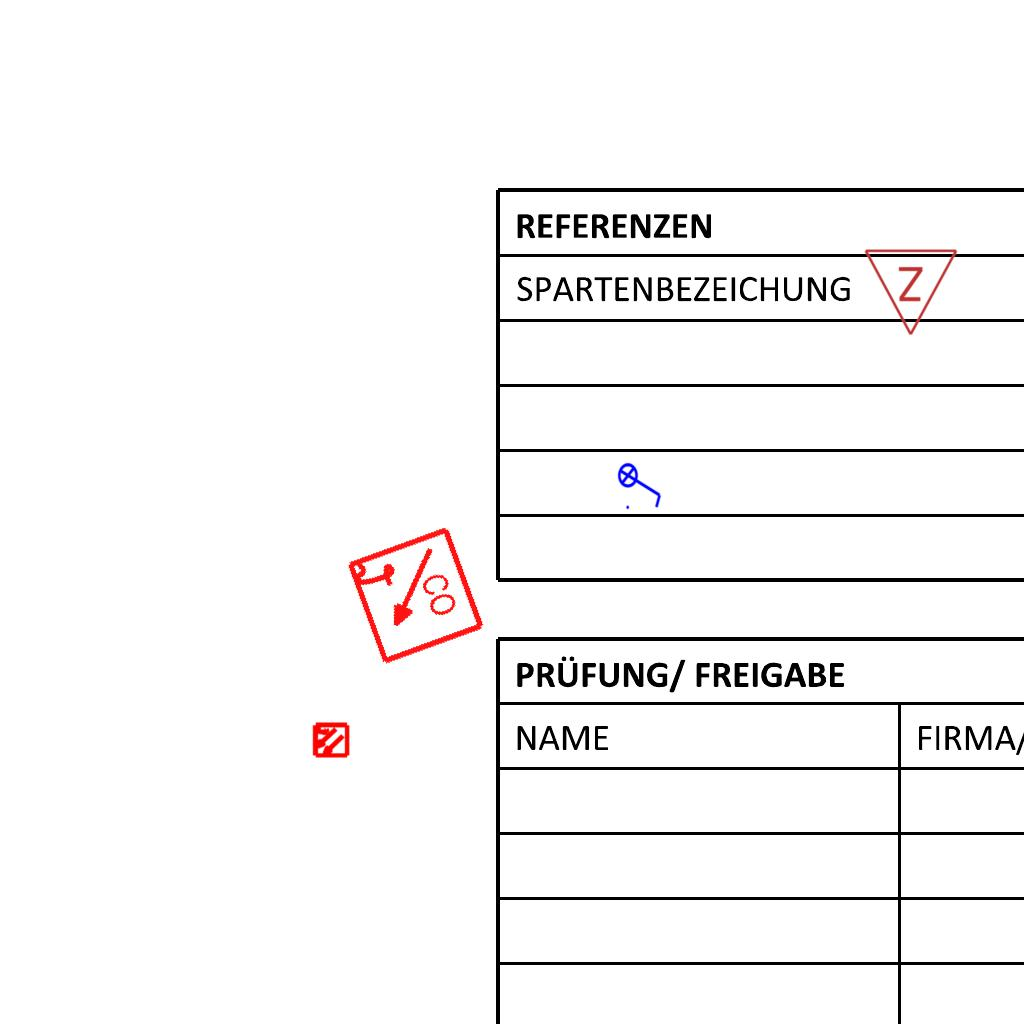Ausschalter_beleuchtet: (617, 456, 665, 512)
OT_Multisensormelder_(Kombination_RMO_WMD): (302, 712, 358, 768)
ROA_Rauchmelder_optisch_mit_Signalgeber_(Sockelsirene): (342, 524, 487, 669)
Zimmersignalleuchte: (863, 242, 961, 342)
